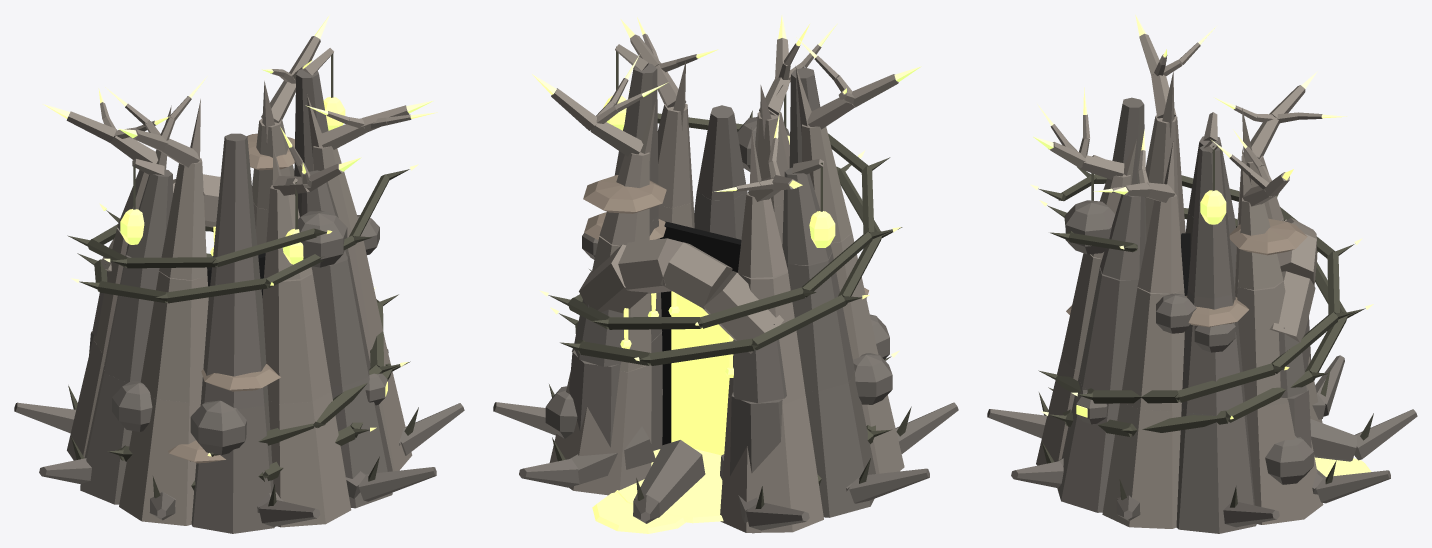
Rendered from spawn_tree.glb.
3 renders of one model, left to right at view 1: azimuth 30°, elevation 25°; view 2: azimuth 150°, elevation 25°; view 3: azimuth 270°, elevation 25°, orthographic. The views are drawn at different scales.
Visible parts, largest first — view 1: spawn_tree; view 2: spawn_tree; view 3: spawn_tree.
Part boxes in pixels (x1=…): spawn_tree: x1=14, y1=15, x2=464, y2=533; spawn_tree: x1=493, y1=15, x2=958, y2=533; spawn_tree: x1=987, y1=15, x2=1417, y2=533.
Bounding box in the file's own units: 5.3 × 5.53 × 5.37.
